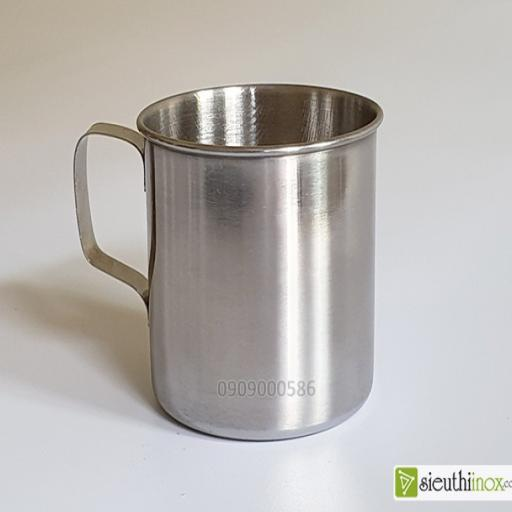cup: (74, 84, 382, 438)
